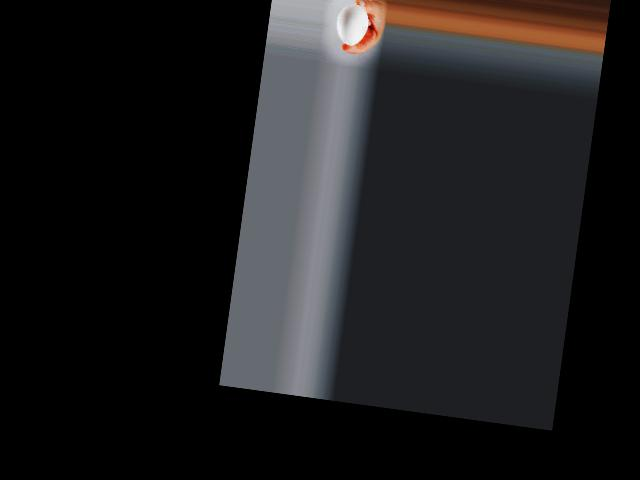egg: (334, 2, 369, 48)
